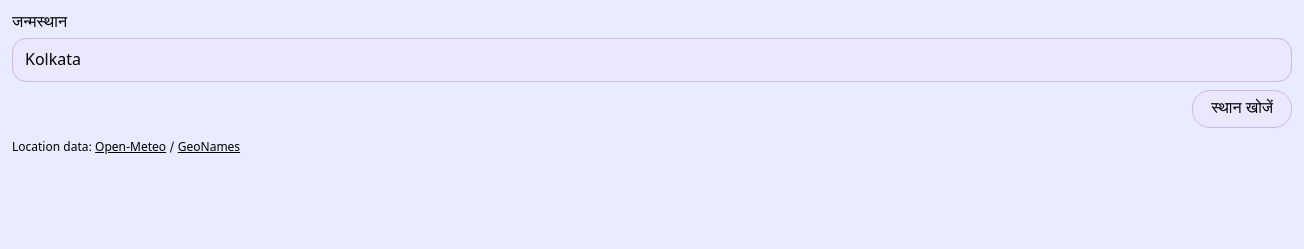
Test: localizes the place selection prompt in Hindi
Click the button: (1242, 109) [1192, 90, 1292, 128]
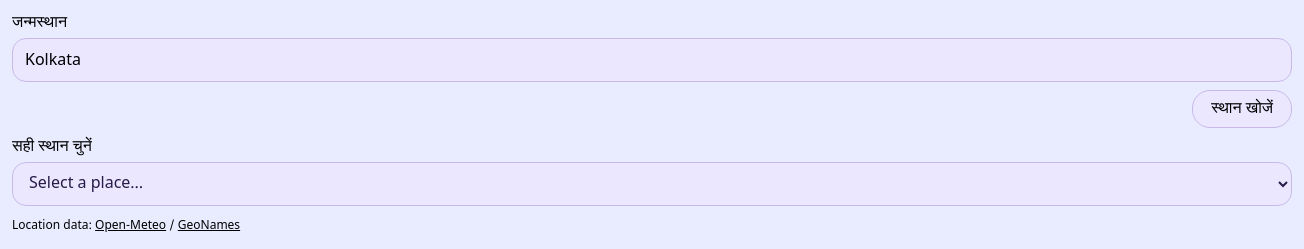
Select "Kolkata" in the dropdown: (652, 184) [12, 162, 1292, 206]
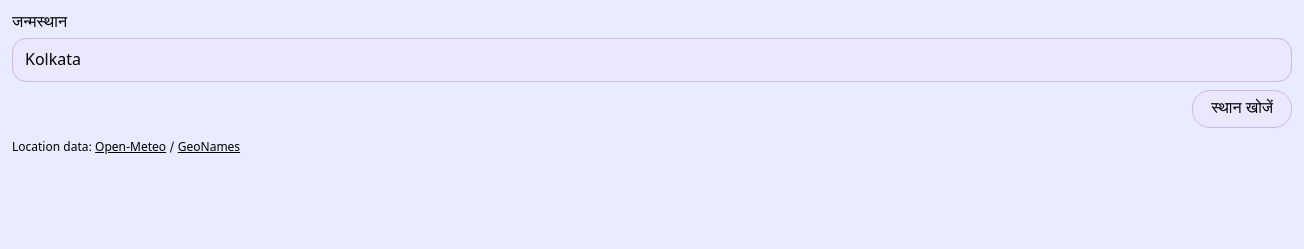
Expected: the dropdown is gone
